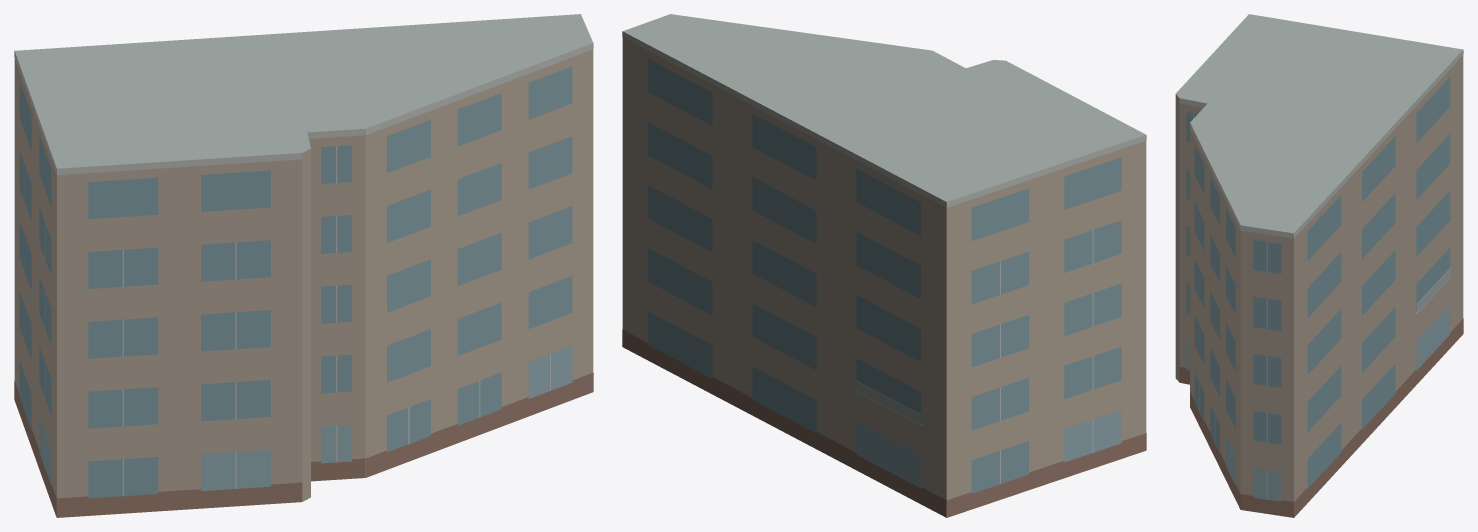
File: survey-upis-32935756.glb
3 renders of one model, left to right at view 1: azimuth 30°, elevation 25°; view 2: azimuth 150°, elevation 25°; view 3: azimuth 270°, elevation 25°, orthographic. The views are drawn at different scales.
Parts seen in each view (by area): view 1: survey-upis-32935756.tmp; view 2: survey-upis-32935756.tmp; view 3: survey-upis-32935756.tmp.
Boxes of the visible parts, bbox=[...] form: survey-upis-32935756.tmp: bbox=[14, 14, 593, 517]; survey-upis-32935756.tmp: bbox=[622, 14, 1146, 517]; survey-upis-32935756.tmp: bbox=[1175, 14, 1463, 517].
Bounding box in the file's own units: 21.75 × 13.15 × 12.07.
